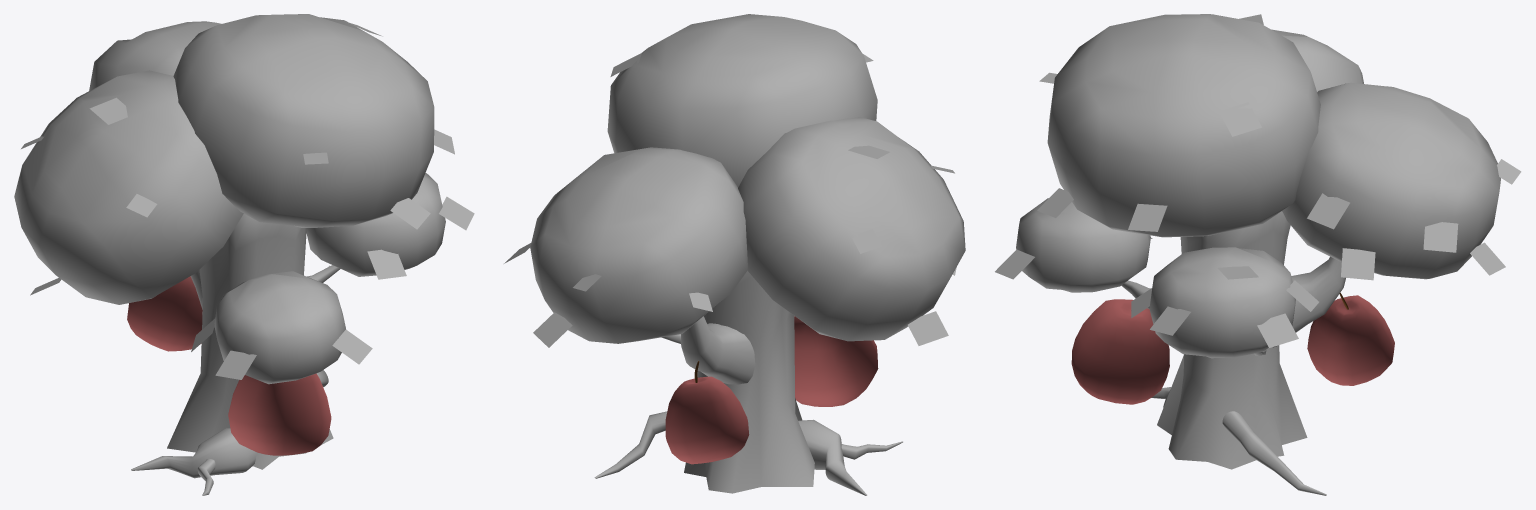
The model's file is treetest.fbx.
The picture shows the model from 3 angles, left to right: view 1: azimuth 30°, elevation 25°; view 2: azimuth 150°, elevation 25°; view 3: azimuth 270°, elevation 25°; orthographic projection.
Visible parts, largest first — view 1: pPlane45; view 2: pPlane45; view 3: pPlane45.
Part boxes in pixels (x1=…): pPlane45: x1=14, y1=14, x2=474, y2=495; pPlane45: x1=504, y1=14, x2=965, y2=495; pPlane45: x1=995, y1=14, x2=1521, y2=495.
Size of the model in its own units: 17.5 by 17.5 by 19.66.
